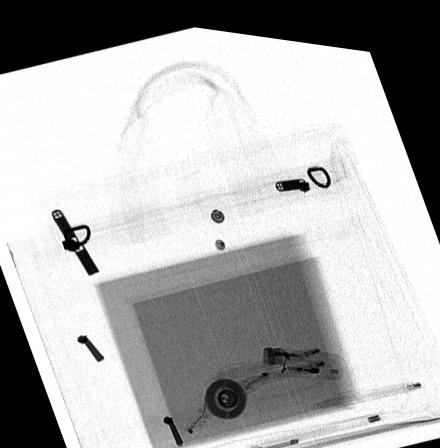Lighter: (261, 337, 341, 369)
